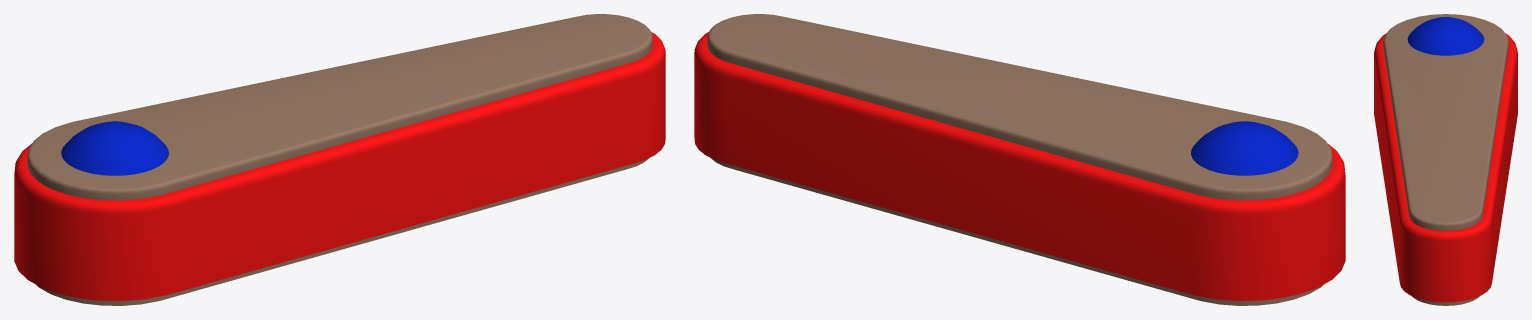
The model's file is Flipper.fbx.
The picture shows the model from 3 angles, left to right: view 1: azimuth 30°, elevation 25°; view 2: azimuth 150°, elevation 25°; view 3: azimuth 270°, elevation 25°; orthographic projection. The views are drawn at different scales.
Visible parts, largest first — view 1: Circle001; view 2: Circle001; view 3: Circle001.
Boxes of the visible parts, x1=… form: Circle001: x1=14, y1=14, x2=665, y2=305; Circle001: x1=694, y1=14, x2=1345, y2=305; Circle001: x1=1374, y1=14, x2=1517, y2=305.
Bounding box in the file's own units: 117 × 25.02 × 32.45.
